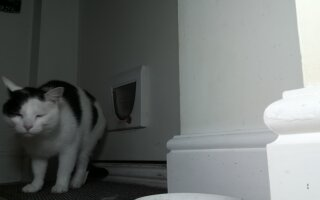bad: (4, 77, 105, 195)
